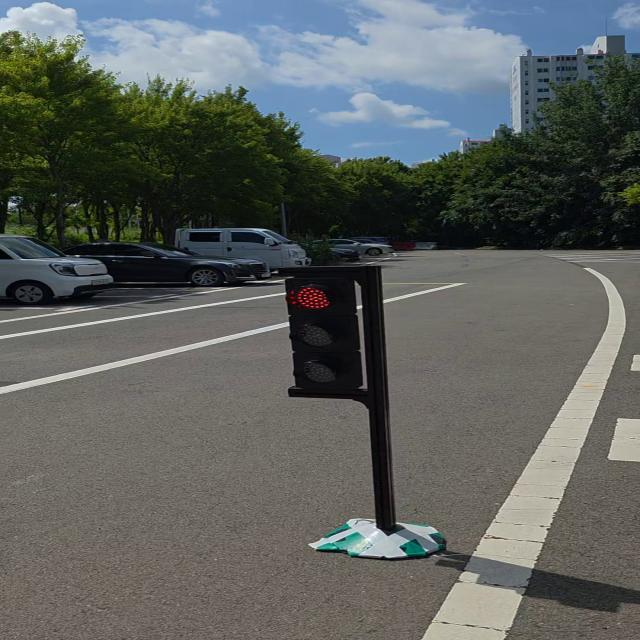red: (277, 272, 380, 396)
